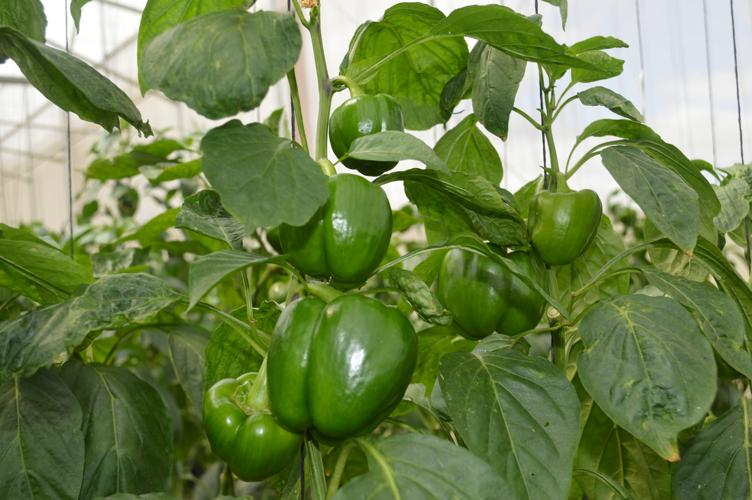BellPepper: (271, 292, 414, 435), (274, 172, 398, 280), (435, 245, 554, 344), (202, 372, 304, 479), (523, 188, 603, 264), (327, 94, 399, 176)
